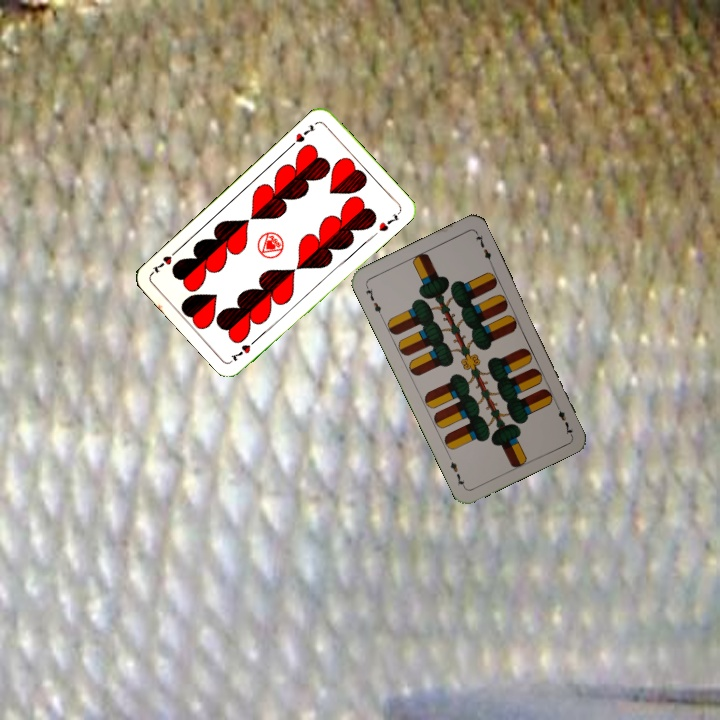E7: (361, 282, 385, 320), (551, 399, 575, 437)
H7: (227, 333, 261, 364), (286, 121, 318, 150)
